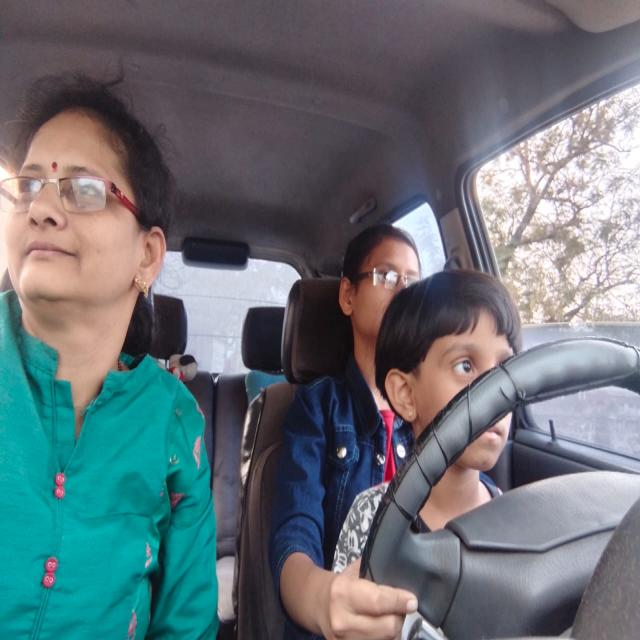child: (378, 283, 517, 465)
person: (14, 91, 163, 296), (335, 224, 421, 334)
